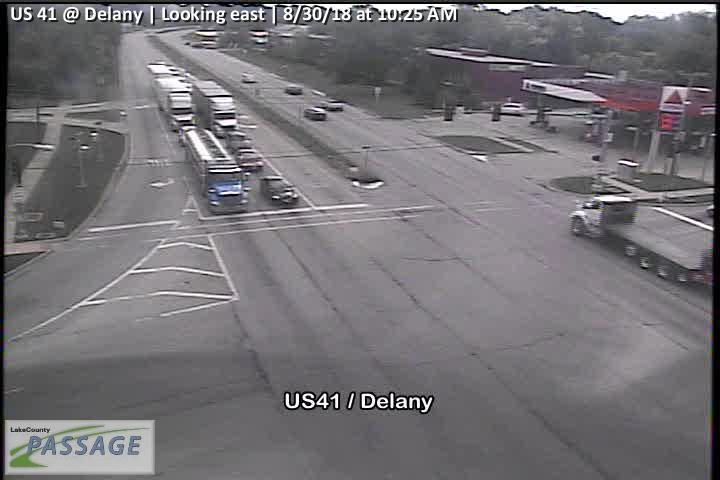SUV: (489, 101, 529, 116), (225, 129, 252, 148), (304, 105, 327, 122), (326, 98, 345, 112), (238, 71, 256, 84)
Sedan: (257, 174, 300, 207), (235, 148, 265, 171), (283, 83, 304, 97)
Truck: (569, 194, 713, 286), (186, 127, 251, 215), (192, 80, 240, 138), (153, 77, 194, 132)
